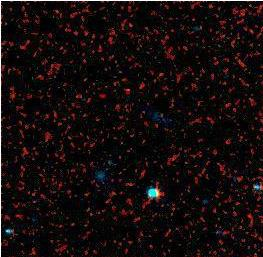star: (110, 75, 140, 105)
